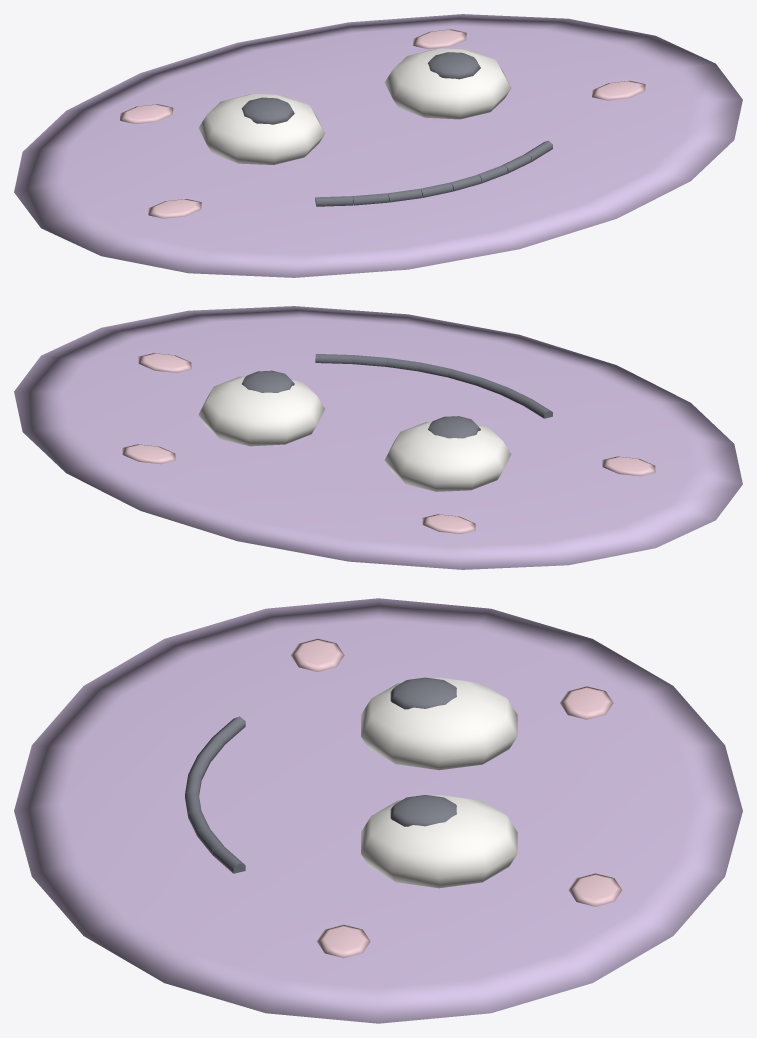
The model's file is 11_alfombra_monstruo.glb.
3 views of the same model, one above another, from view 1: azimuth 30°, elevation 25°; view 2: azimuth 150°, elevation 25°; view 3: azimuth 270°, elevation 25° (orthographic). The views are drawn at different scales.
Visible parts, largest first — view 1: body (×3), eyes; view 2: body (×3), eyes; view 3: body (×3), eyes.
Boxes of the visible parts, bbox=[...] form: body (×3): bbox=[14, 14, 742, 277]; eyes: bbox=[241, 52, 552, 206]; body (×3): bbox=[14, 306, 742, 569]; eyes: bbox=[242, 354, 552, 438]; body (×3): bbox=[14, 598, 742, 1023]; eyes: bbox=[185, 677, 456, 873].
Size of the model in its own units: 1.16 by 0.104 by 0.84.
